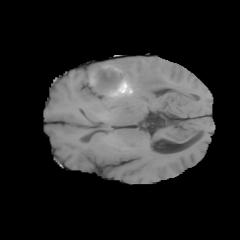glioma: (86, 63, 166, 110)
